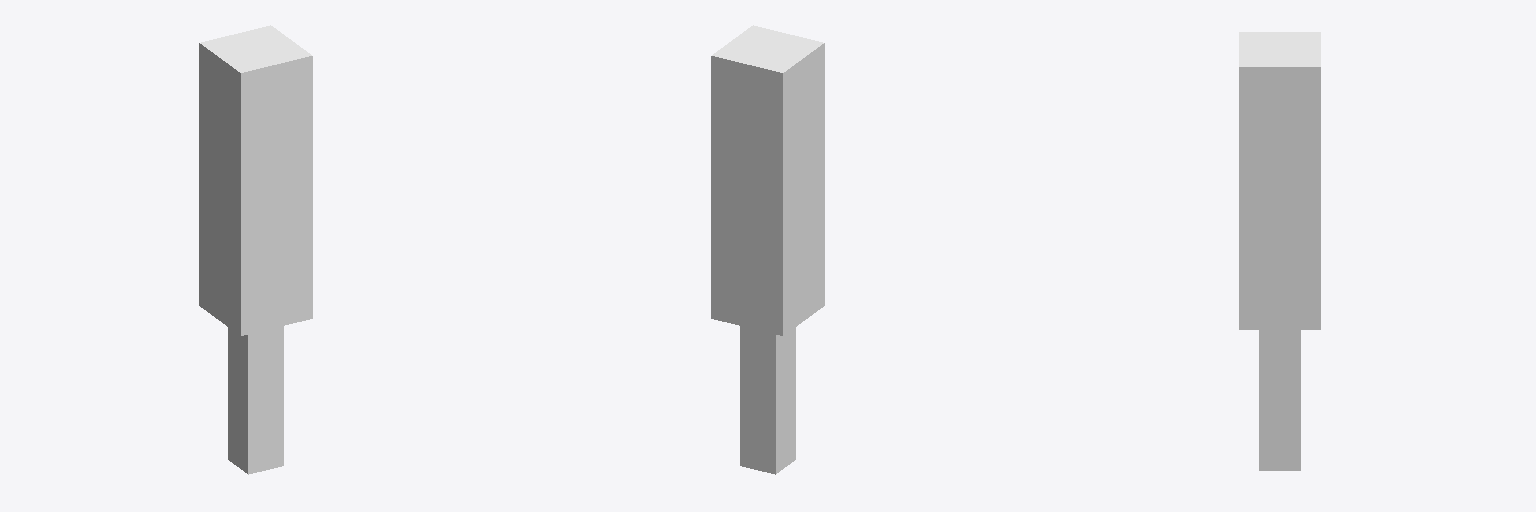
The model's file is tree03.obj.
3 views of the same model, side by side, from view 1: azimuth 30°, elevation 25°; view 2: azimuth 150°, elevation 25°; view 3: azimuth 270°, elevation 25° (orthographic).
Visible parts, largest first — view 1: tree03; view 2: tree03; view 3: tree03.
Part boxes in pixels (x1,y1,x2,y2): tree03: (199, 25, 312, 474); tree03: (711, 25, 824, 474); tree03: (1239, 32, 1320, 470).
Bounding box in the file's own units: 4 × 22 × 4.